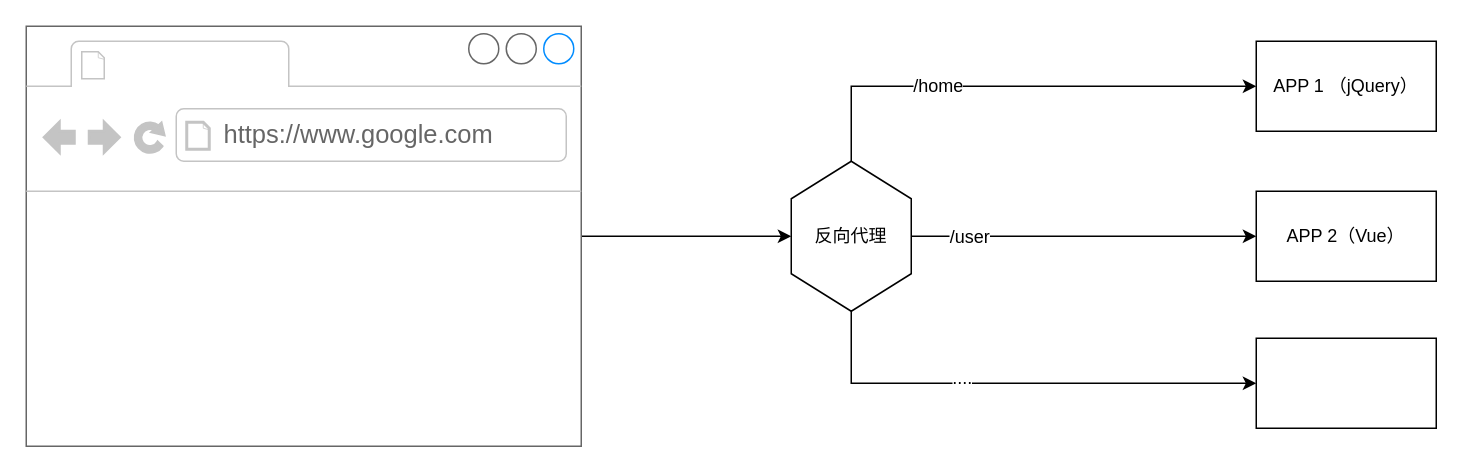
The diagram is 1463 pixels wide and 473 high, and some of its shapes have lost their labels. Here are the shapes that lost their labels. From the top down, the centre of each, then its label:
the point at 198,63: Google
the point at 1345,382: APP * （...）
